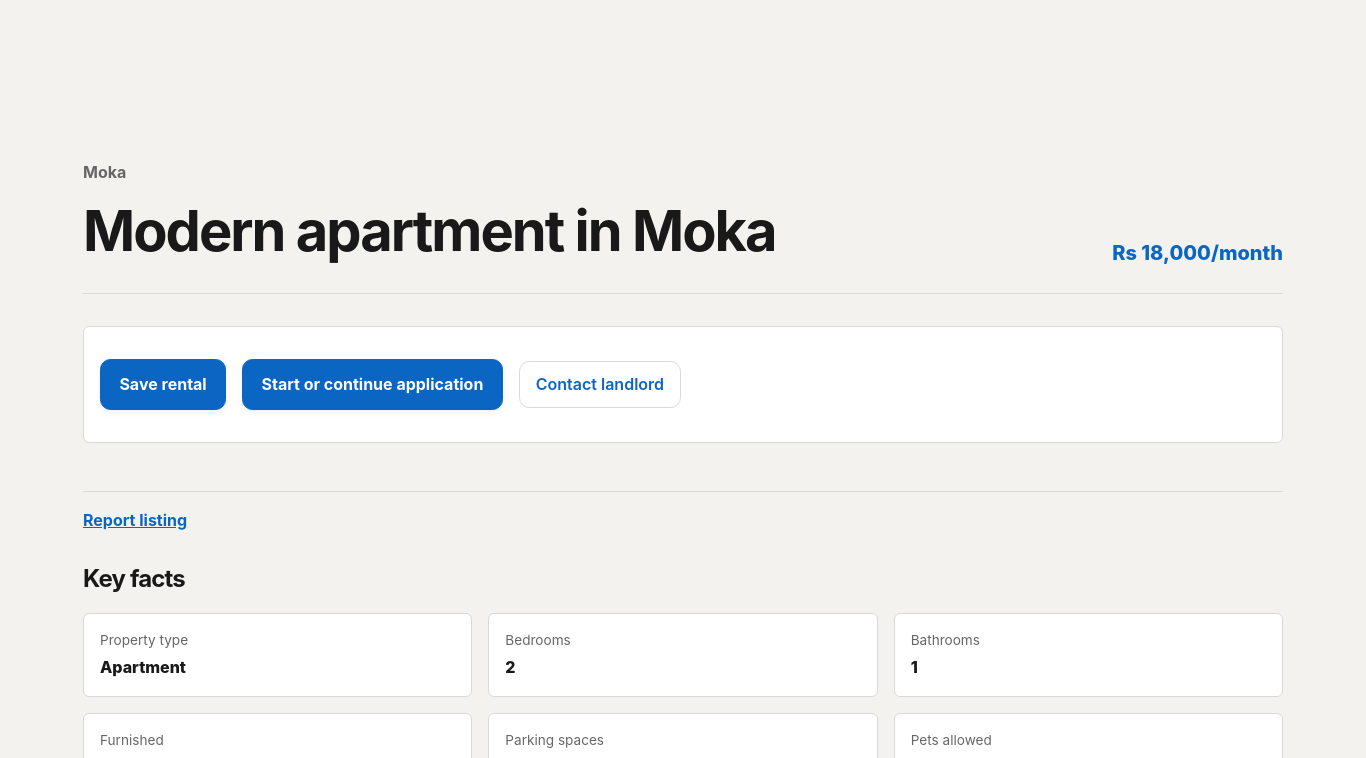
Test: conversation foundation UX › lets a TENANT create/reuse a bearer-authenticated conversation and redirects
(page scrolled)
Click the button "Contact landlord" at coordinates (600, 384), box [519, 361, 681, 408]
(page scrolled)
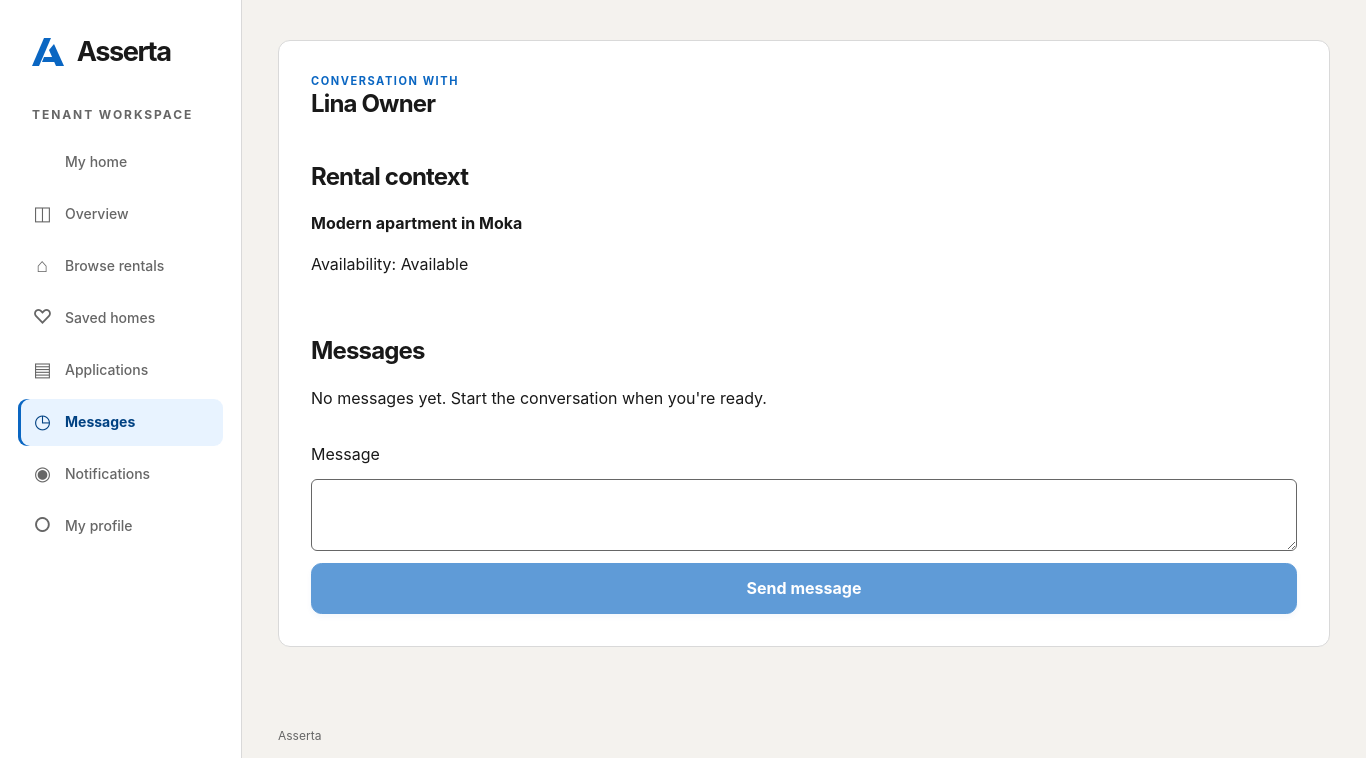
expect the heading "Lina Owner" is shown: met, box [311, 89, 435, 118]
expect the heading "Messages" is shown: met, box [311, 336, 425, 365]
